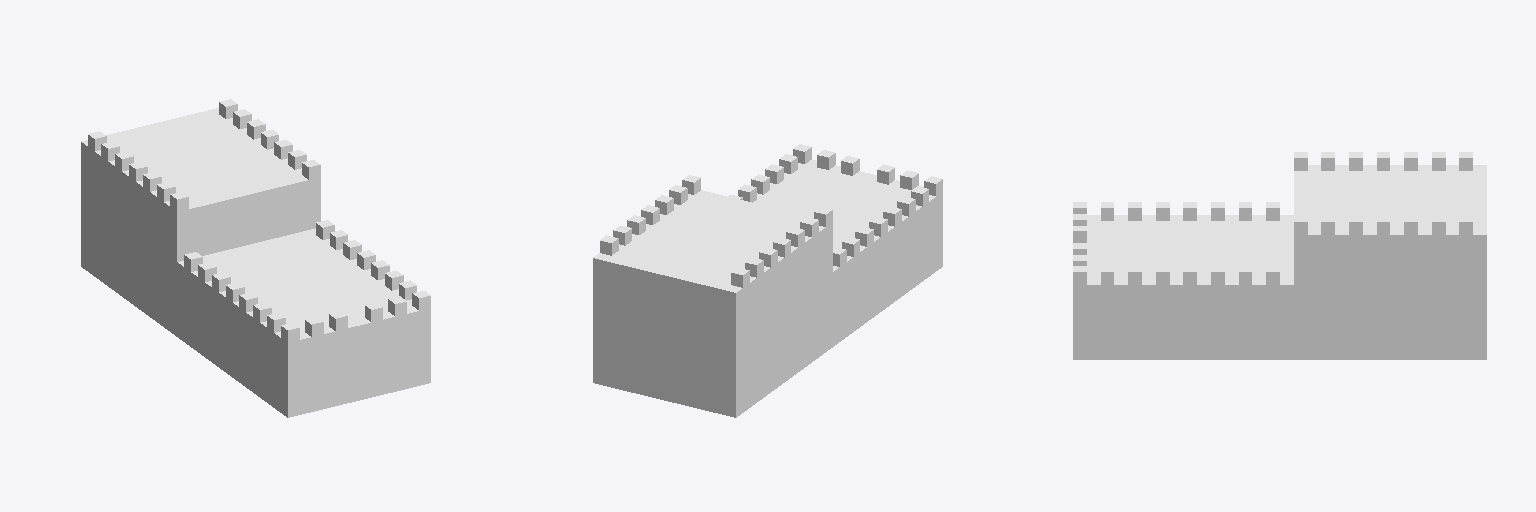
File: krokodyl.obj
3 renders of one model, left to right at view 1: azimuth 30°, elevation 25°; view 2: azimuth 150°, elevation 25°; view 3: azimuth 270°, elevation 25°, orthographic.
Visible parts, largest first — view 1: object 1; view 2: object 1; view 3: object 1.
Part boxes in pixels (bbox=[...]): object 1: bbox=[81, 99, 430, 417]; object 1: bbox=[593, 144, 942, 417]; object 1: bbox=[1073, 152, 1486, 359].
Size of the model in its own units: 1.2 by 1.1 by 3.